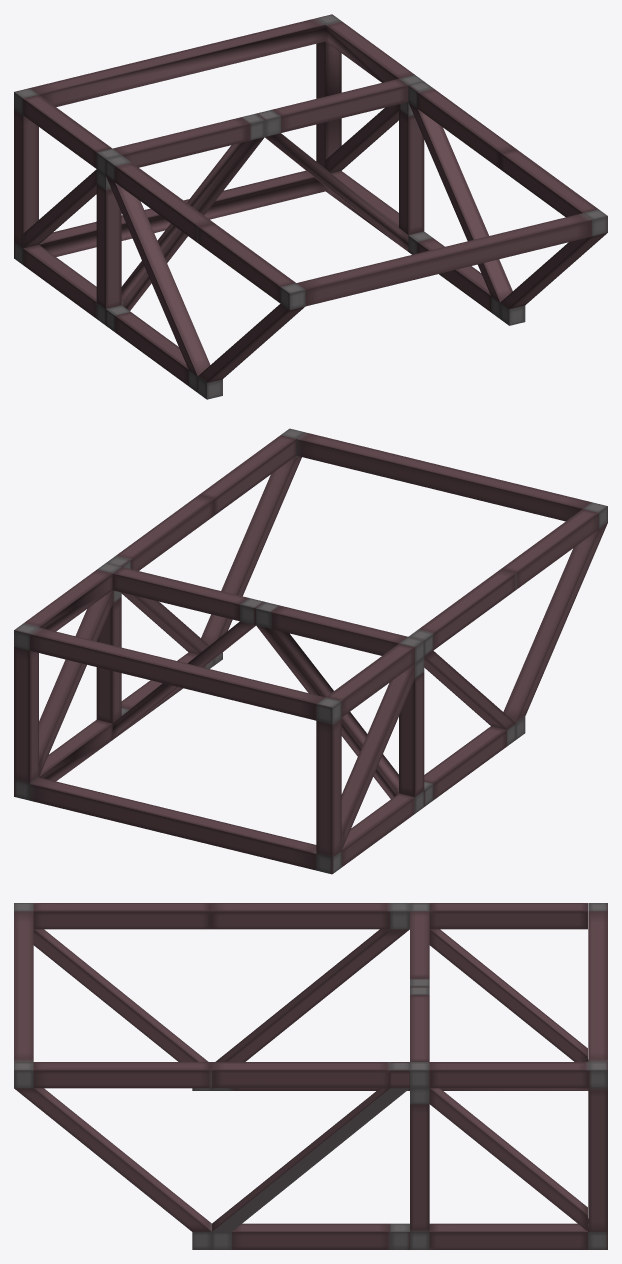
Rendered from Back_Platform_Support.obj.
3 renders of one model, top to bottom at view 1: azimuth 30°, elevation 25°; view 2: azimuth 150°, elevation 25°; view 3: azimuth 270°, elevation 25°, orthographic. The views are drawn at different scales.
Parts seen in each view (by area): view 1: Cube.001; view 2: Cube.001; view 3: Cube.001.
Boxes of the visible parts, bbox=[...] form: Cube.001: bbox=[14, 14, 607, 399]; Cube.001: bbox=[14, 428, 607, 874]; Cube.001: bbox=[14, 903, 607, 1249].
Size of the model in its own units: 1 by 0.5 by 1.5.
1 material, 1 textured.
